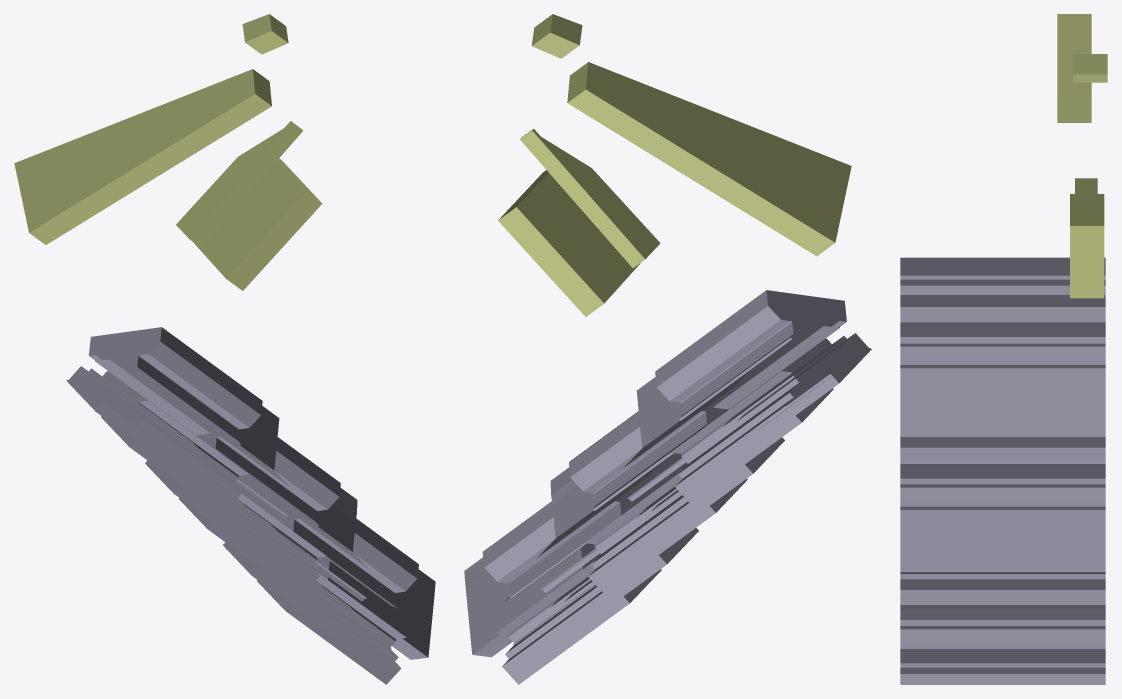
The picture shows the model from 3 angles, left to right: view 1: azimuth 30°, elevation 25°; view 2: azimuth 150°, elevation 25°; view 3: azimuth 270°, elevation 25°; orthographic projection. The views are drawn at different scales.
Visible parts, largest first — view 1: 0_1_2; view 2: 0_1_2; view 3: 0_1_2.
Boxes of the visible parts, left/top/right/bottom form: 0_1_2: left=14, top=14, right=435, bottom=684; 0_1_2: left=464, top=14, right=871, bottom=684; 0_1_2: left=900, top=14, right=1107, bottom=684.
Bounding box in the file's own units: 101 × 177 × 54.5.
